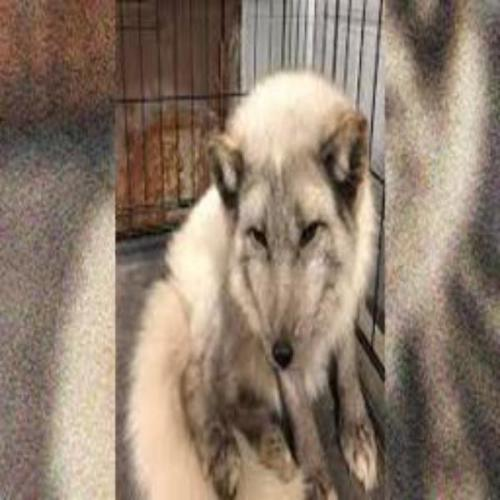arctic_fox-endangered: (149, 74, 381, 486)
